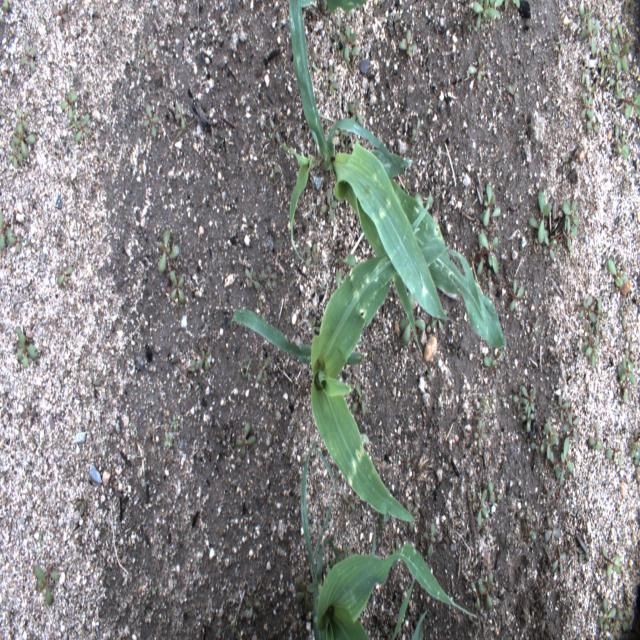crop: (277, 0, 506, 357), (230, 202, 449, 522), (301, 441, 477, 639), (392, 581, 414, 639), (300, 0, 369, 15), (412, 612, 428, 640)
weed: (323, 10, 355, 74), (400, 292, 425, 346), (466, 392, 503, 428), (471, 230, 498, 275), (549, 438, 573, 486), (35, 563, 59, 606), (15, 325, 38, 369), (12, 121, 36, 159), (65, 68, 75, 159), (158, 229, 179, 272), (614, 87, 640, 120), (540, 418, 560, 459), (235, 422, 256, 461), (605, 257, 630, 289), (538, 190, 552, 244), (582, 324, 599, 368), (581, 17, 599, 55), (295, 581, 316, 613), (335, 253, 355, 284), (339, 24, 356, 60), (611, 38, 629, 72), (596, 598, 615, 630), (602, 546, 621, 578), (218, 614, 242, 639), (142, 103, 160, 136), (50, 2, 69, 32), (422, 521, 437, 559), (20, 40, 38, 71), (483, 181, 495, 227), (398, 28, 417, 57), (169, 270, 185, 304), (320, 188, 337, 220), (0, 210, 13, 250), (479, 572, 493, 609), (73, 112, 89, 144), (351, 382, 366, 416), (562, 198, 580, 226), (509, 278, 524, 311), (468, 56, 486, 83), (245, 590, 262, 618), (512, 385, 528, 414), (473, 0, 496, 20), (61, 93, 78, 120), (564, 216, 577, 251), (323, 67, 339, 95), (588, 420, 602, 452), (563, 412, 579, 439), (528, 216, 549, 236), (552, 545, 566, 575), (477, 488, 488, 526), (621, 357, 636, 384), (56, 264, 74, 286), (8, 140, 22, 168), (522, 386, 536, 414), (349, 100, 364, 126), (474, 420, 487, 450), (521, 404, 534, 434), (260, 265, 278, 286), (608, 66, 622, 93), (140, 38, 155, 63), (430, 309, 447, 331), (175, 102, 188, 130), (615, 134, 629, 160), (256, 358, 271, 382), (244, 267, 260, 289), (479, 204, 501, 220), (618, 363, 627, 402), (414, 193, 433, 211), (8, 235, 28, 252), (544, 233, 557, 259), (409, 117, 421, 145), (598, 48, 610, 76), (556, 395, 568, 423), (407, 501, 418, 531), (488, 481, 503, 503), (304, 244, 318, 267), (618, 22, 632, 45), (578, 296, 592, 319), (84, 370, 100, 390), (484, 350, 504, 366), (605, 448, 621, 468), (580, 92, 592, 118), (586, 108, 598, 134), (198, 347, 210, 372), (628, 437, 639, 464), (16, 107, 29, 129), (583, 300, 596, 322), (489, 0, 504, 19), (307, 316, 321, 336), (470, 581, 480, 609), (617, 609, 630, 630), (586, 78, 596, 105), (579, 2, 590, 25), (508, 82, 520, 103), (606, 18, 618, 39), (624, 340, 635, 362), (476, 0, 484, 30), (581, 57, 590, 83), (1, 60, 12, 81), (552, 42, 563, 63), (621, 318, 630, 343), (333, 126, 349, 140), (544, 526, 560, 540), (575, 546, 589, 562), (607, 42, 618, 62), (469, 491, 479, 513), (257, 299, 266, 323), (76, 490, 86, 511), (596, 296, 602, 331), (343, 495, 355, 511), (542, 489, 554, 505), (324, 556, 334, 574), (560, 154, 569, 173), (0, 109, 12, 123), (601, 0, 612, 15), (244, 358, 252, 377), (555, 487, 563, 506), (40, 16, 50, 31), (332, 35, 339, 56), (610, 621, 618, 639), (484, 270, 491, 289), (165, 432, 173, 448), (172, 412, 178, 433), (237, 360, 244, 378), (621, 304, 631, 316), (526, 510, 534, 524), (350, 46, 360, 57), (341, 140, 352, 148), (3, 0, 10, 12), (512, 0, 520, 9), (615, 125, 619, 143)
